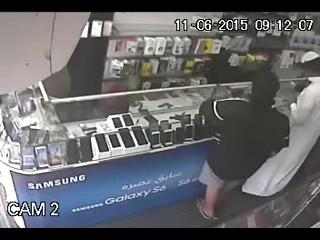Normal: (195, 68, 298, 222)
